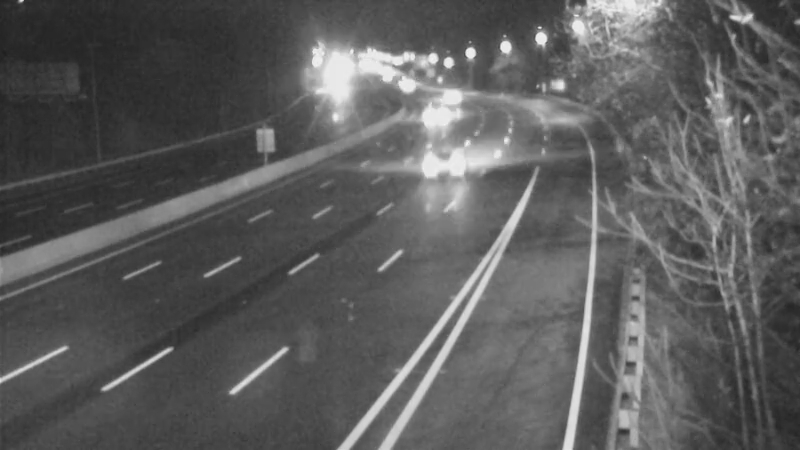vehicle: (412, 116, 492, 196), (382, 62, 432, 112), (427, 70, 477, 120), (405, 93, 455, 143)
